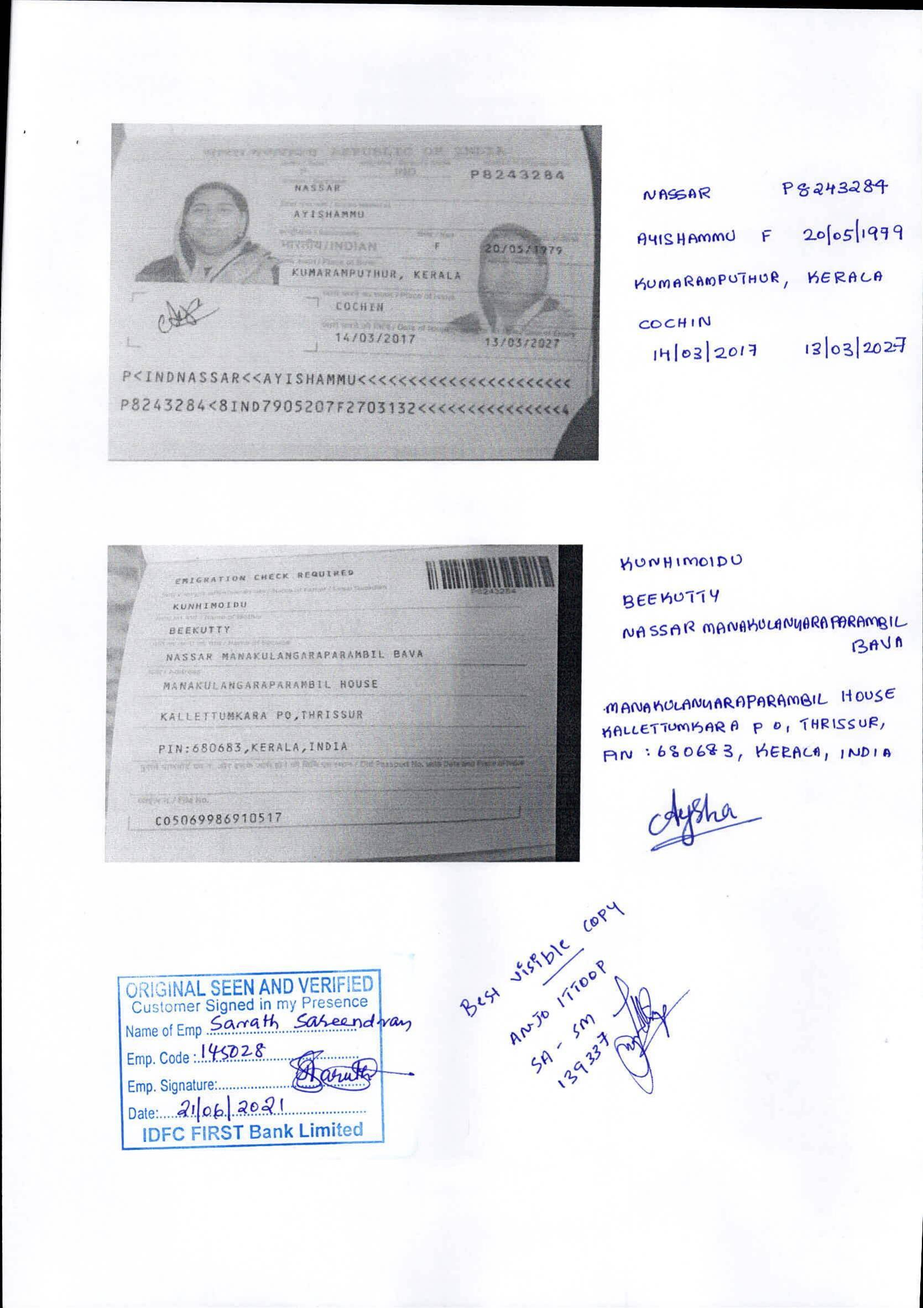DOB: (472, 235, 565, 267)
File_no: (155, 811, 284, 835)
Surname: (289, 179, 347, 197)
address: (149, 679, 429, 758)
country_code: (390, 164, 422, 178)
date_of_expiry: (467, 331, 572, 357)
date_of_issue: (322, 329, 417, 355)
details: (119, 361, 580, 421)
father_name: (168, 595, 258, 613)
mother_name: (155, 612, 241, 638)
name: (286, 205, 376, 220)
nationality: (279, 228, 387, 254)
passport_no: (462, 163, 565, 193), (464, 578, 527, 605)
photo: (158, 170, 268, 282)
place_of_birth: (288, 265, 464, 288)
place_of_issue: (331, 298, 395, 321)
sex: (419, 238, 453, 261)
sign: (148, 292, 241, 334)
spouse_name: (159, 647, 435, 667)
type: (289, 163, 316, 179)
